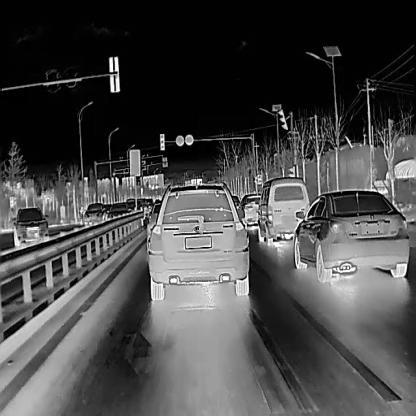car: (147, 179, 249, 301), (293, 189, 409, 283), (256, 176, 310, 245), (12, 205, 49, 249), (239, 194, 261, 229), (83, 202, 107, 227), (108, 200, 132, 225)
